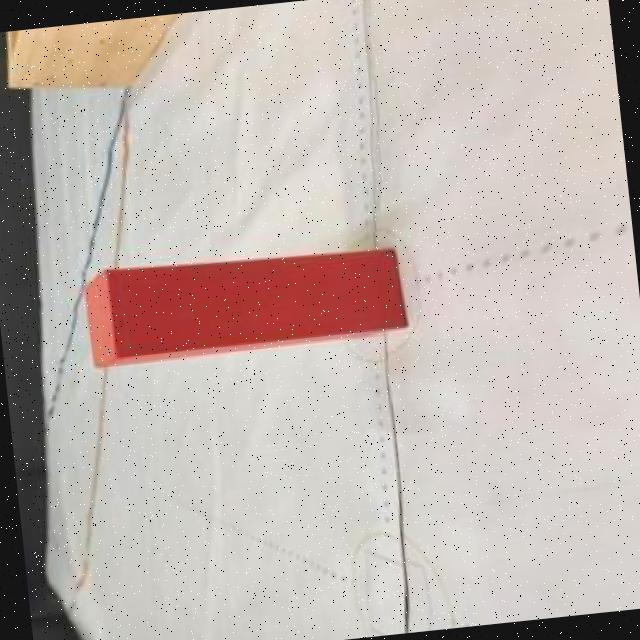redbox: (78, 240, 410, 372)
